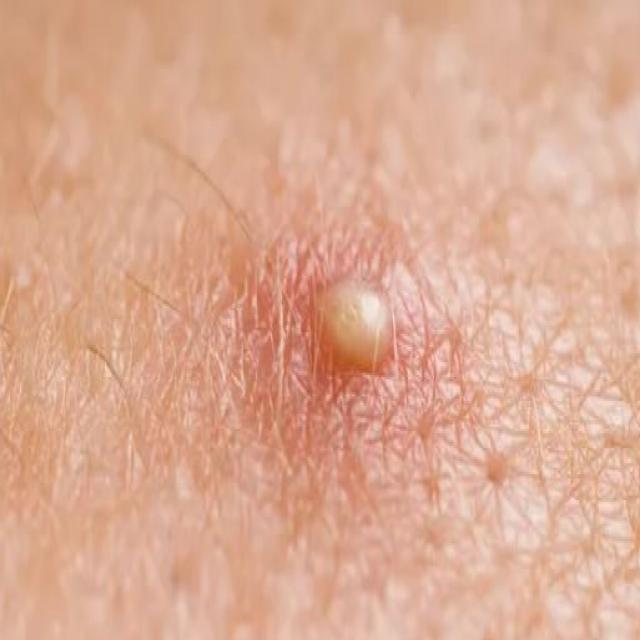blackheads: (301, 239, 417, 407)
